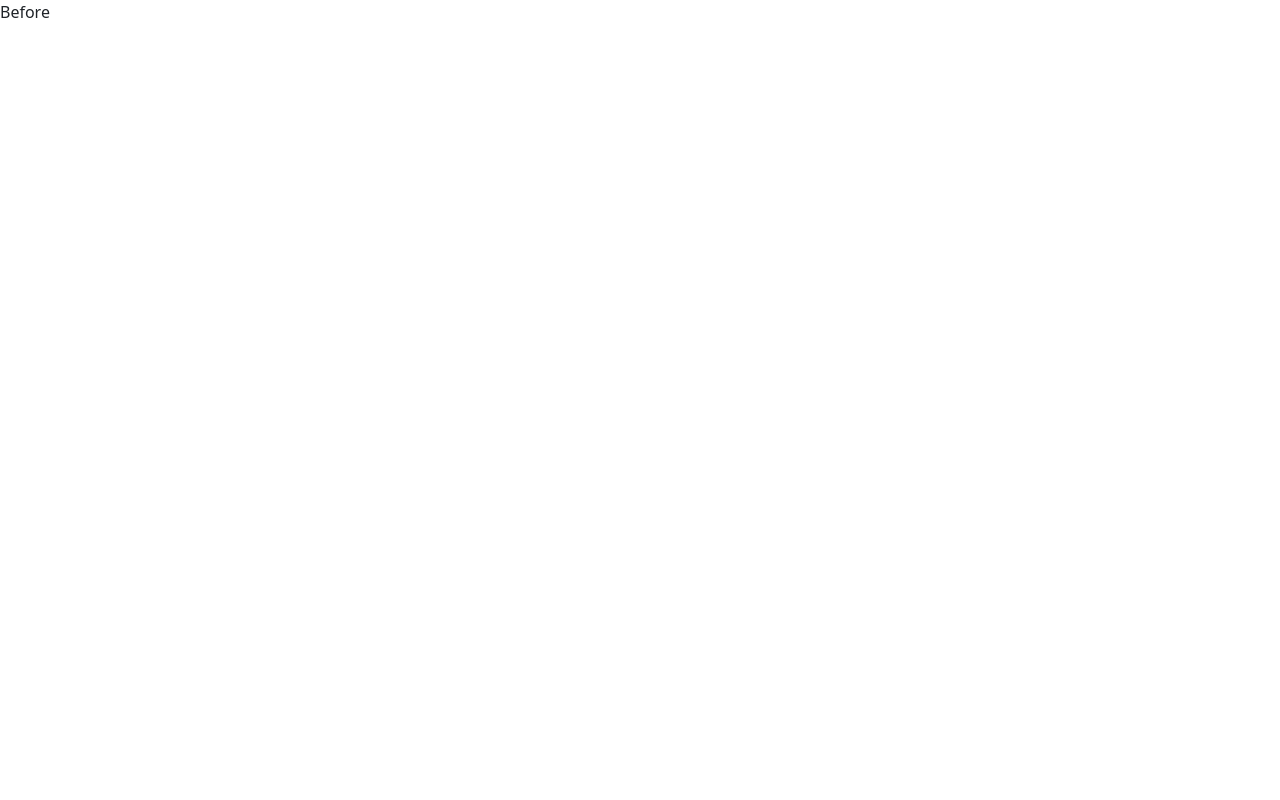
Test: CommandPalette › opens with Ctrl+K, filters, and runs a script, showing its log
Type keys "{Control>}k{/Control}"
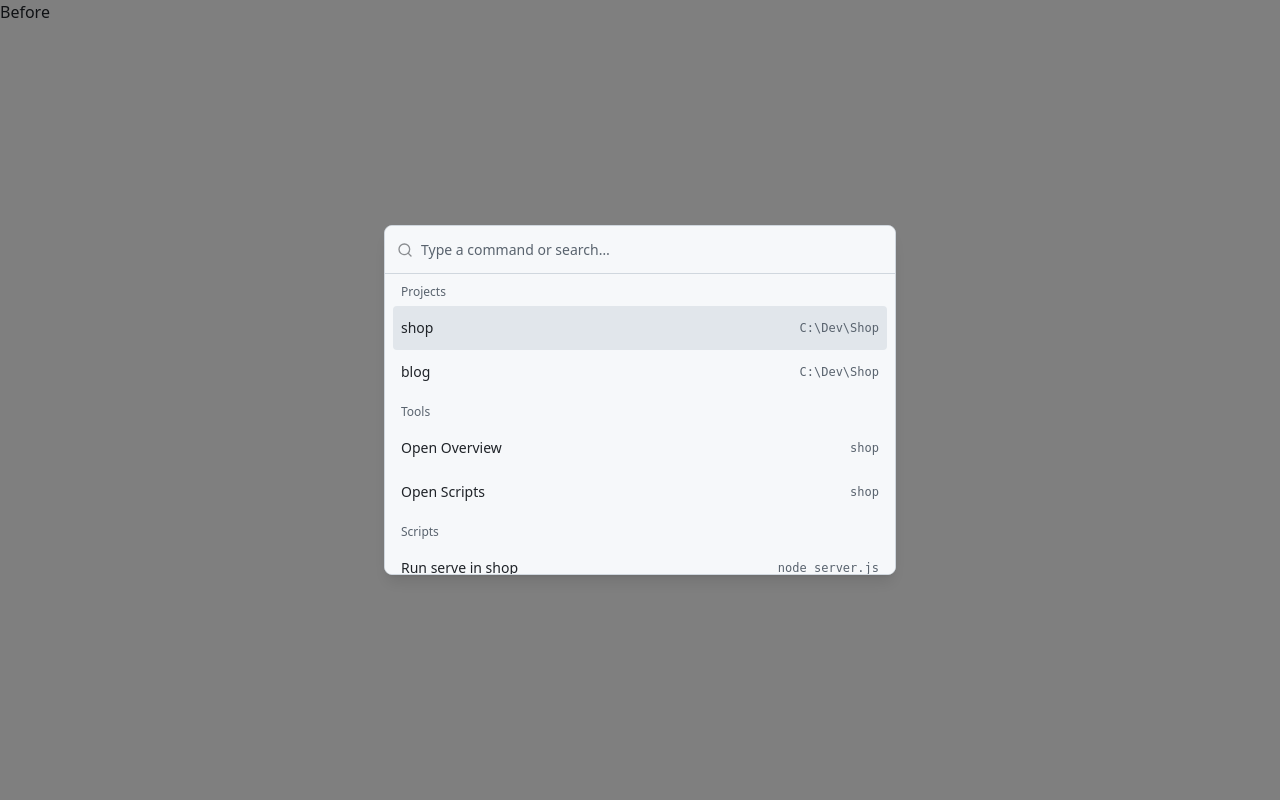
Type "serve" into the dropdown named "Command palette". click: x=652, y=250
box: [421,226,883,274]
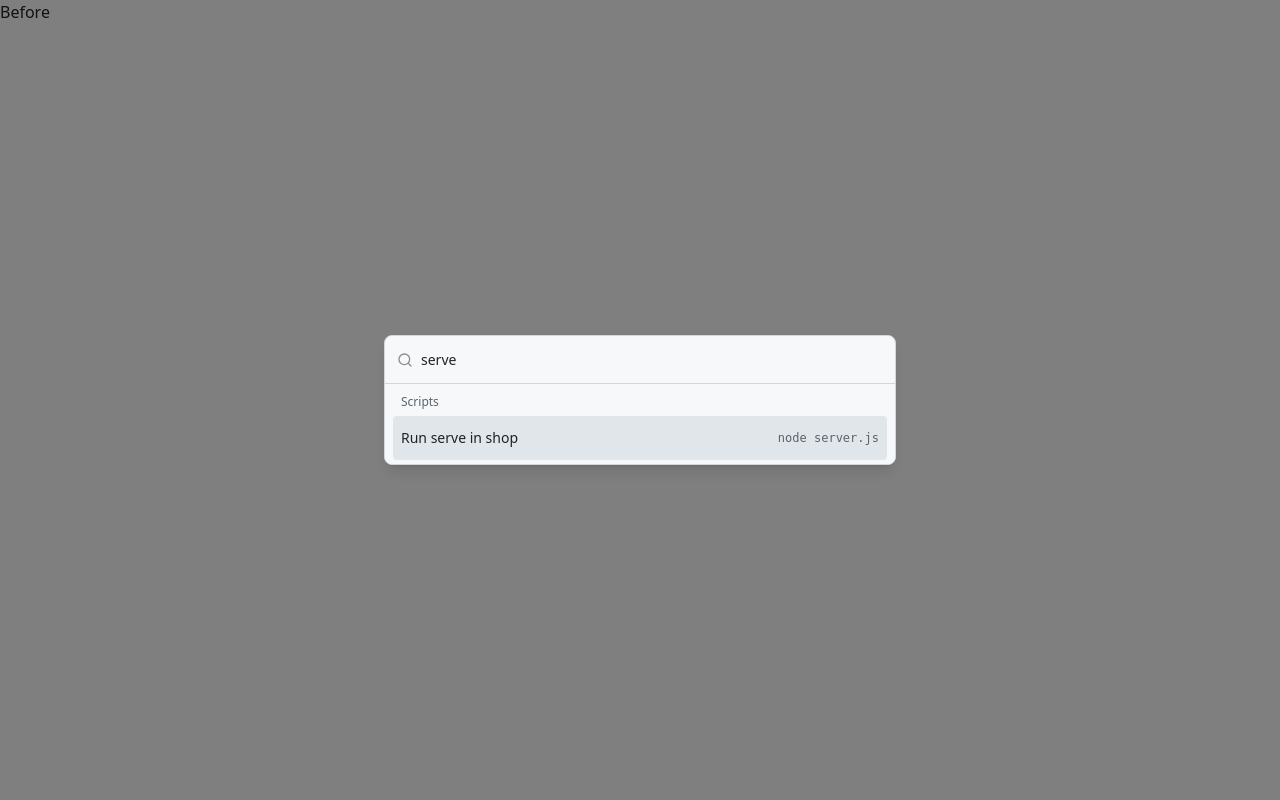
Expected: the option "Run build in shop" is not shown
Expected: the option "Run serve in shop node server.js" is shown, [393,416,887,460]
Press Enter
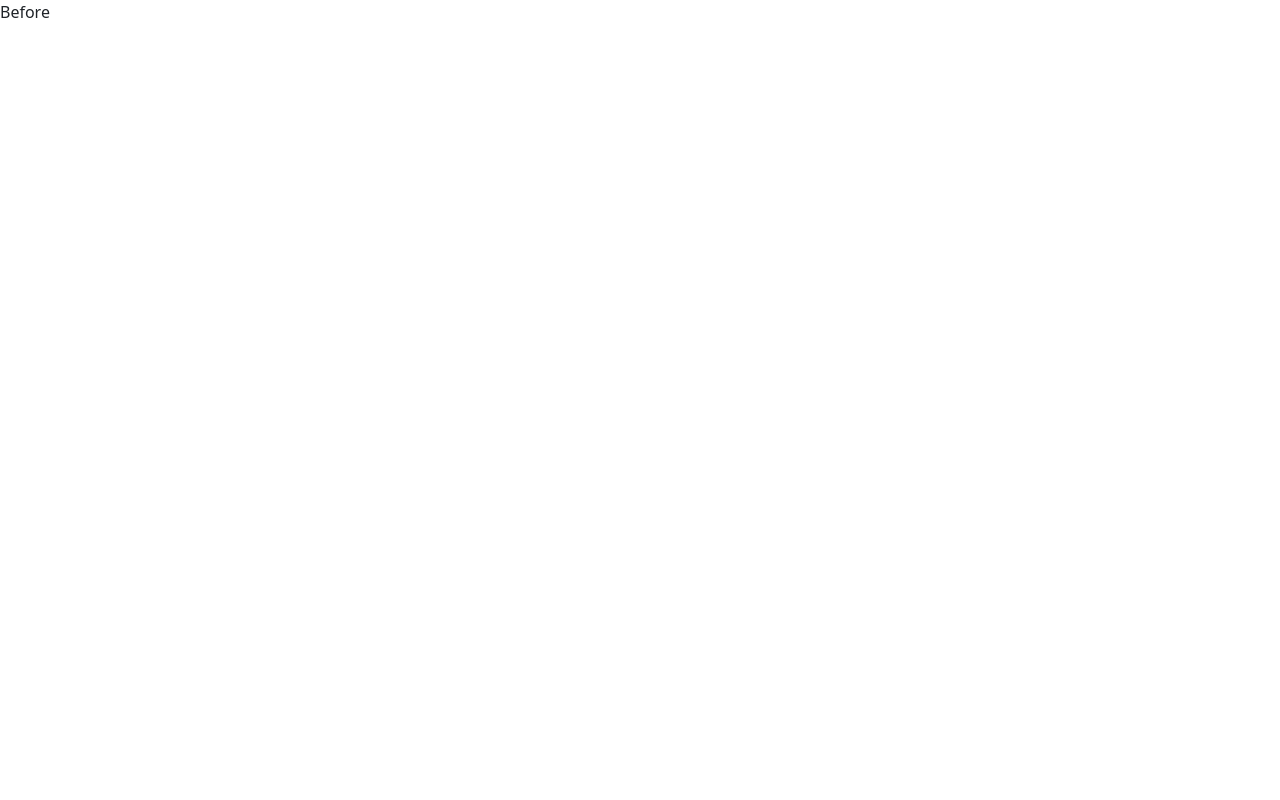
Expected: the dialog is gone
